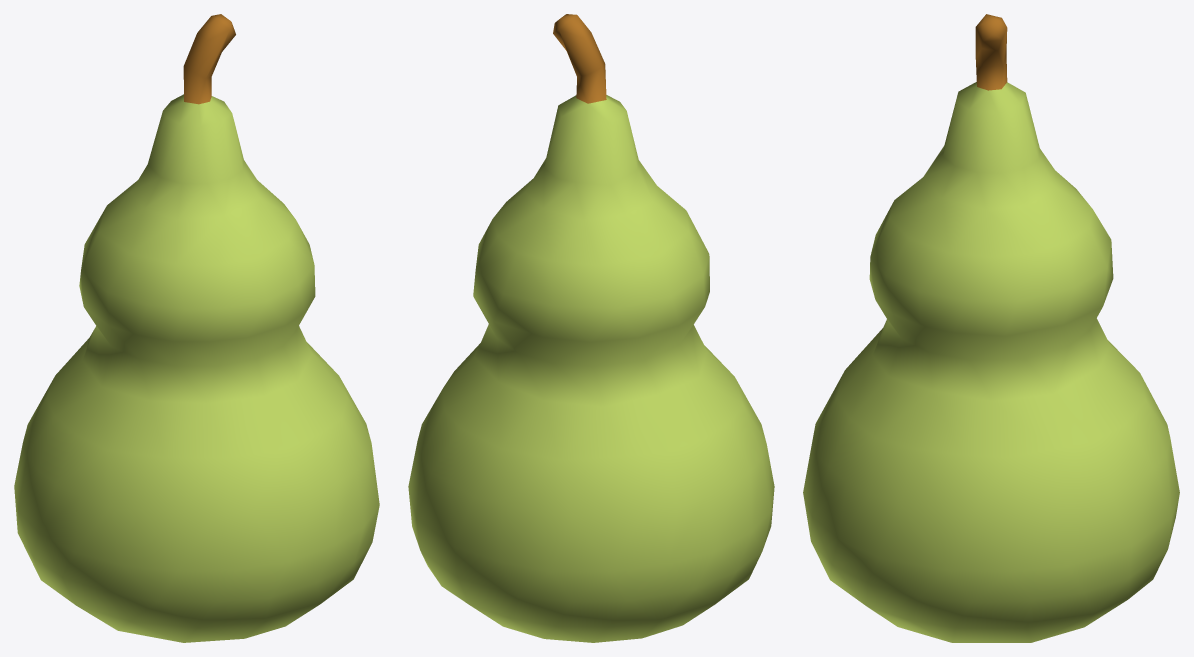
Rendered from Gourd.fbx.
3 renders of one model, left to right at view 1: azimuth 30°, elevation 25°; view 2: azimuth 150°, elevation 25°; view 3: azimuth 270°, elevation 25°, orthographic. The views are drawn at different scales.
Parts seen in each view (by area): view 1: Cylinder; view 2: Cylinder; view 3: Cylinder.
Boxes of the visible parts, x1,y1,x2,y2 form: Cylinder: (14,14,379,642); Cylinder: (408,14,774,642); Cylinder: (803,14,1179,642).
Bounding box in the file's own units: 162 × 293 × 162.
